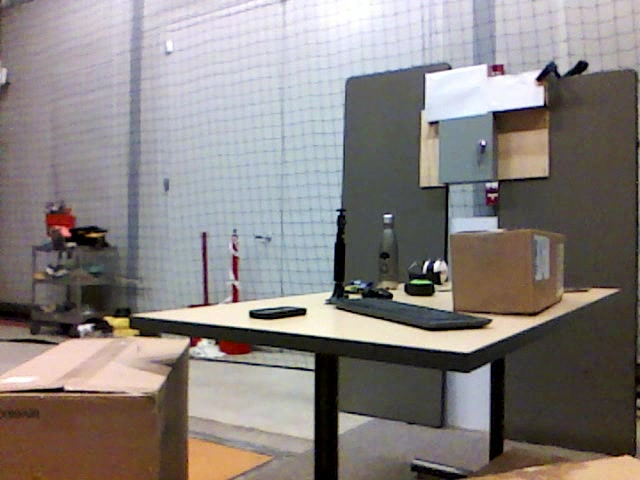box: (1, 340, 188, 480), (450, 230, 565, 315)
